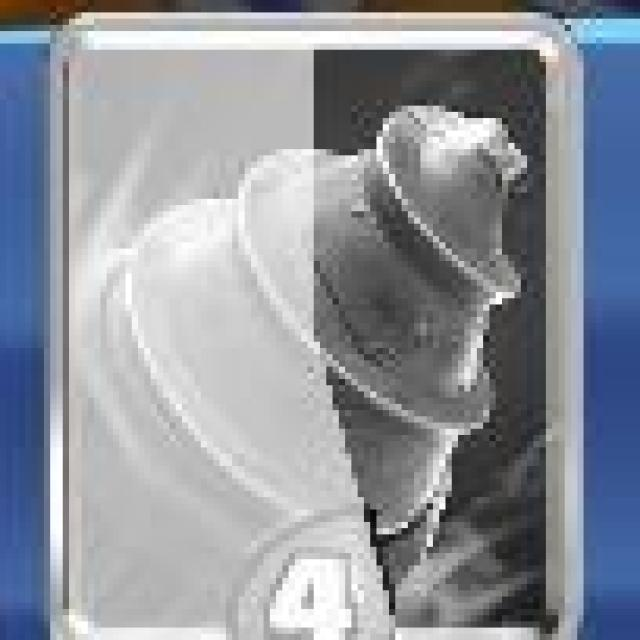Goblin_Drill: (47, 12, 584, 638)
